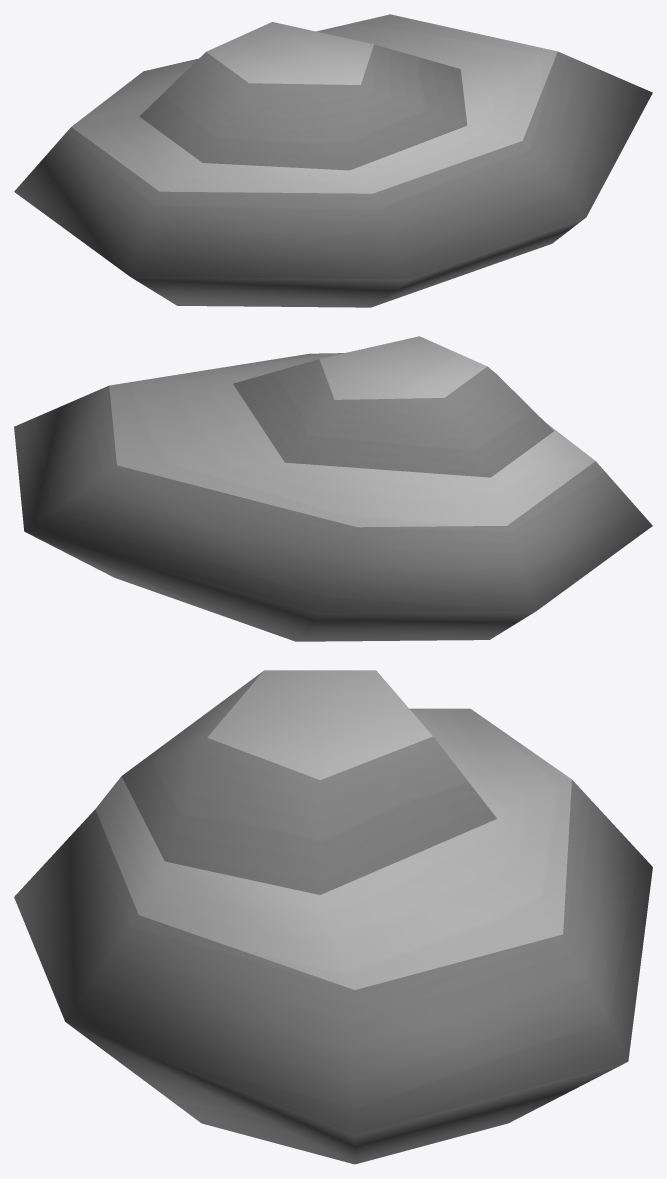
The model's file is GL-Rock-05.fbx.
3 views of the same model, one above another, from view 1: azimuth 30°, elevation 25°; view 2: azimuth 150°, elevation 25°; view 3: azimuth 270°, elevation 25° (orthographic). The views are drawn at different scales.
Parts seen in each view (by area): view 1: GL-Rock-05; view 2: GL-Rock-05; view 3: GL-Rock-05.
Part boxes in pixels (box(x1,y1,x2,y2)): GL-Rock-05: box(14, 14, 652, 307); GL-Rock-05: box(14, 336, 652, 641); GL-Rock-05: box(14, 670, 652, 1164).
Bounding box in the file's own units: 3.19 × 1.11 × 2.33.
